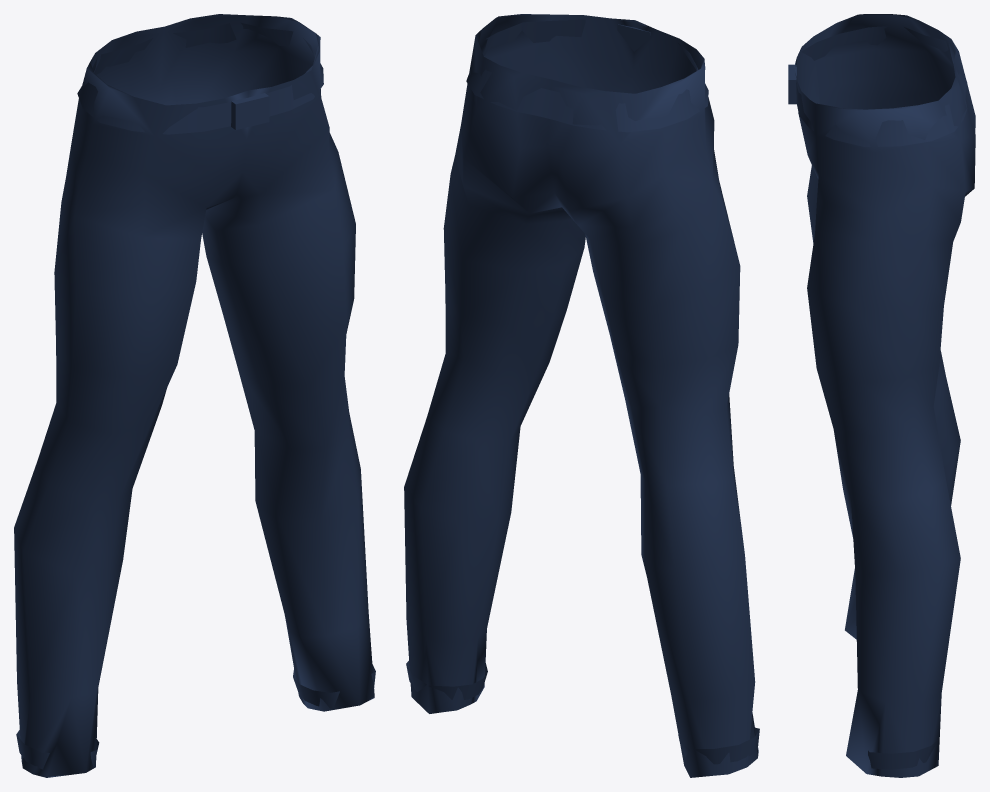
The model's file is jeans.glb.
3 views of the same model, side by side, from view 1: azimuth 30°, elevation 25°; view 2: azimuth 150°, elevation 25°; view 3: azimuth 270°, elevation 25° (orthographic). The views are drawn at different scales.
Parts seen in each view (by area): view 1: jeans; view 2: jeans; view 3: jeans.
Boxes of the visible parts, left/top/right/bottom form: jeans: left=14, top=14, right=375, bottom=777; jeans: left=404, top=14, right=759, bottom=777; jeans: left=788, top=14, right=975, bottom=777.
Size of the model in its own units: 0.5149 by 0.977 by 0.2578.
